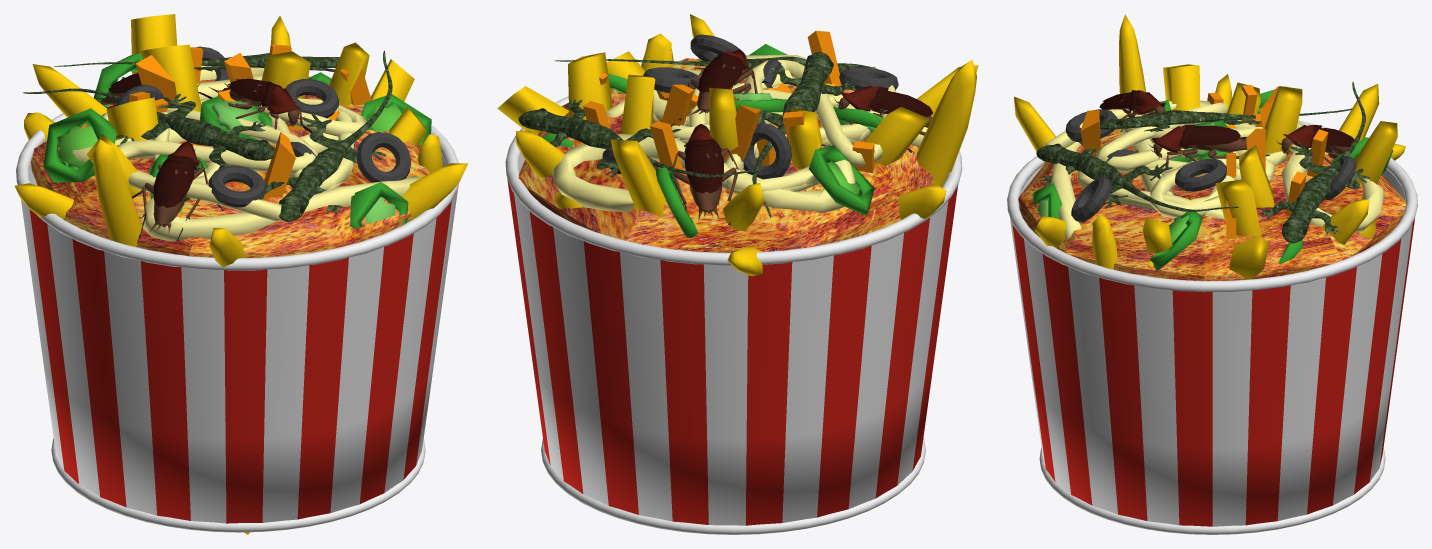
File: Fires Bucket Updated.fbx
3 views of the same model, side by side, from view 1: azimuth 30°, elevation 25°; view 2: azimuth 150°, elevation 25°; view 3: azimuth 270°, elevation 25° (orthographic). The views are drawn at different scales.
Visible parts, largest first — view 1: Bucket.001, Fries.002, Chez, Mayo, Jalapeno, Lizard, Olives, Coroach, uncooked chez; view 2: Bucket.001, Fries.002, Chez, Mayo, Coroach, Lizard, uncooked chez, Jalapeno, Olives; view 3: Bucket.001, Fries.002, Chez, Mayo, Lizard, Coroach, Olives, uncooked chez, Jalapeno.
Boxes of the visible parts, x1=… form: Bucket.001: x1=16, y1=95, x2=458, y2=532; Fries.002: x1=14, y1=14, x2=468, y2=534; Chez: x1=31, y1=76, x2=430, y2=257; Mayo: x1=66, y1=65, x2=420, y2=241; Jalapeno: x1=43, y1=53, x2=431, y2=228; Lizard: x1=23, y1=50, x2=392, y2=221; Olives: x1=115, y1=46, x2=410, y2=207; Coroach: x1=96, y1=73, x2=312, y2=240; uncooked chez: x1=129, y1=44, x2=371, y2=200; Bucket.001: x1=505, y1=96, x2=962, y2=534; Fries.002: x1=497, y1=14, x2=978, y2=276; Chez: x1=518, y1=58, x2=934, y2=252; Mayo: x1=552, y1=54, x2=927, y2=212; Coroach: x1=667, y1=49, x2=932, y2=225; Lizard: x1=518, y1=52, x2=871, y2=217; uncooked chez: x1=583, y1=30, x2=874, y2=173; Jalapeno: x1=541, y1=44, x2=883, y2=237; Olives: x1=602, y1=34, x2=898, y2=179; Bucket.001: x1=1007, y1=120, x2=1417, y2=534; Fries.002: x1=1014, y1=14, x2=1405, y2=279; Chez: x1=1018, y1=129, x2=1405, y2=280; Mayo: x1=1045, y1=100, x2=1384, y2=240; Lizard: x1=1036, y1=82, x2=1369, y2=243; Coroach: x1=1099, y1=90, x2=1354, y2=180; Olives: x1=1065, y1=100, x2=1356, y2=222; uncooked chez: x1=1080, y1=85, x2=1328, y2=239; Jalapeno: x1=1032, y1=89, x2=1392, y2=271.
Size of the model in its own units: 482 by 458 by 444.
Materials: 4 (4 with a texture image).
